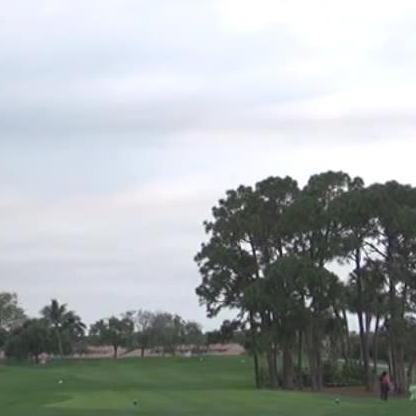golfball: (100, 317, 110, 325)
